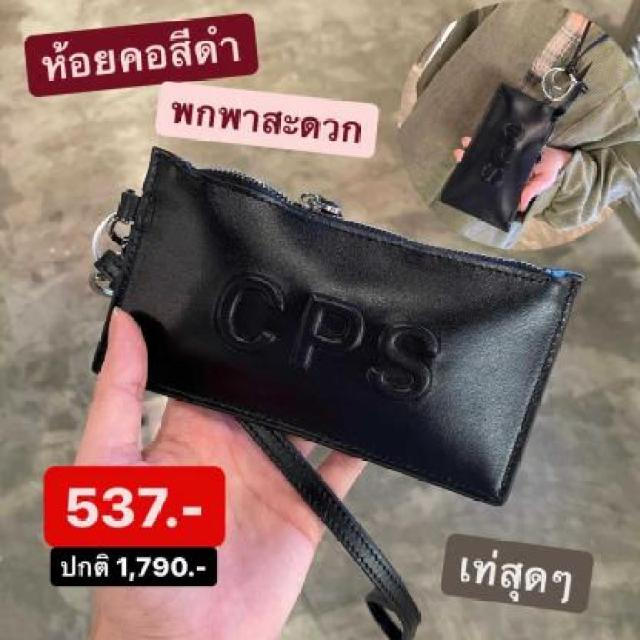Bag: (66, 138, 620, 592), (436, 12, 592, 252)
